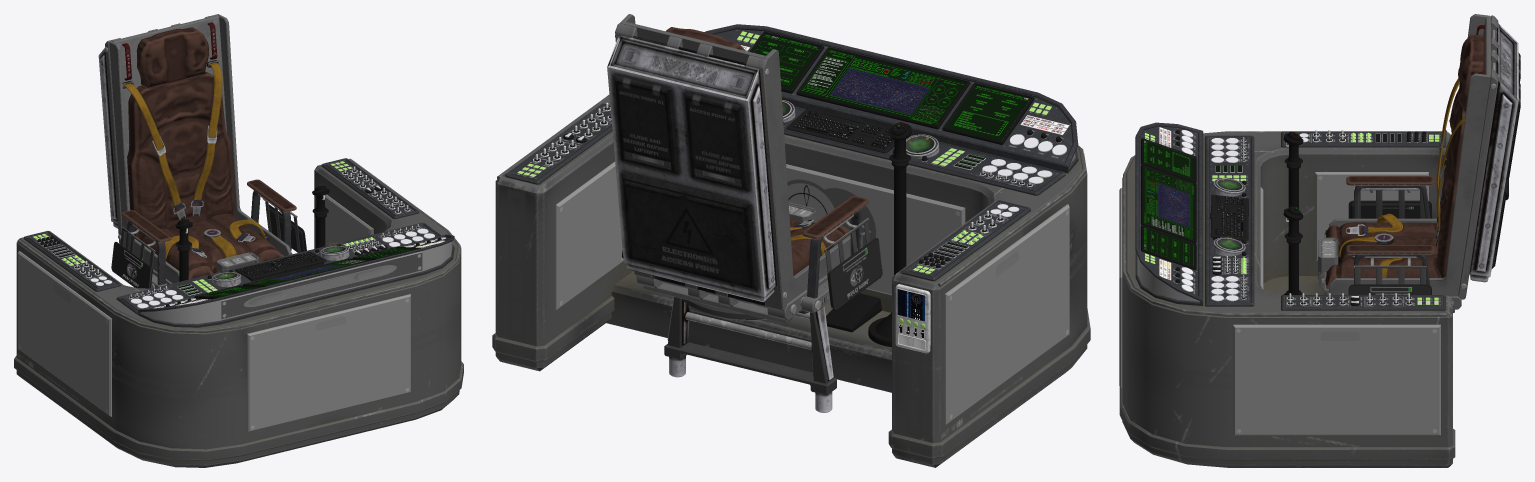
Rendered from plane cockpit+seat.fbx.
The picture shows the model from 3 angles, left to right: view 1: azimuth 30°, elevation 25°; view 2: azimuth 150°, elevation 25°; view 3: azimuth 270°, elevation 25°; orthographic projection. The views are drawn at different scales.
Parts seen in each view (by area): view 1: MainControlPanel, LeatherPadding+BackPart, ChairMain, ChairMain.001, ControlPanelExtras, StoolDisplay, Keyboard.001, CockpitScreens; view 2: MainControlPanel, LeatherPadding+BackPart, ChairMain, CockpitScreens, StoolBase, ControlPanelExtras, StoolDisplay, Keyboard.001, WallPanel.001, Radars.001; view 3: MainControlPanel, LeatherPadding+BackPart, ChairMain, CockpitScreens, ControlPanelExtras, StoolDisplay, ChairMain.001, Keyboard.001, Radars, Radars.001.
Boxes of the visible parts, x1,y1,x2,y2 form: MainControlPanel: (14,158,463,467); LeatherPadding+BackPart: (98,27,283,279); ChairMain: (104,14,297,288); ChairMain.001: (122,60,268,261); ControlPanelExtras: (33,161,445,308); StoolDisplay: (111,201,306,288); Keyboard.001: (235,251,326,281); CockpitScreens: (176,240,444,305); MainControlPanel: (492,24,1090,467); LeatherPadding+BackPart: (607,27,850,305); ChairMain: (615,14,869,323); CockpitScreens: (741,33,1068,141); StoolBase: (664,297,836,412); ControlPanelExtras: (517,31,1069,273); StoolDisplay: (622,219,882,310); Keyboard.001: (786,107,894,153); WallPanel.001: (895,284,930,353); Radars.001: (906,134,939,158); MainControlPanel: (1119,122,1455,467); LeatherPadding+BackPart: (1325,23,1520,288); ChairMain: (1318,14,1498,312); CockpitScreens: (1143,127,1194,279); ControlPanelExtras: (1144,127,1439,305); StoolDisplay: (1348,189,1431,294); ChairMain.001: (1338,78,1465,277); Keyboard.001: (1210,194,1248,240); Radars: (1212,237,1245,256); Radars.001: (1212,178,1245,196).
Bounding box in the file's own units: 192 × 161 × 175.
Materials: 27 (14 with a texture image).
